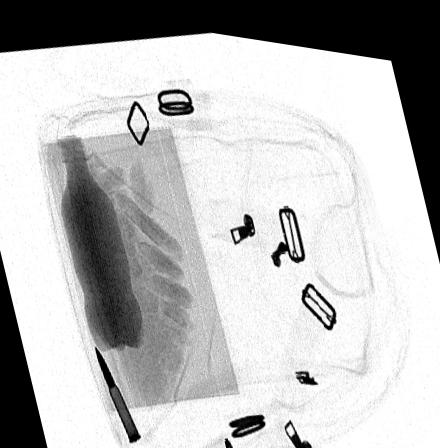Bullet: (92, 339, 141, 439)
